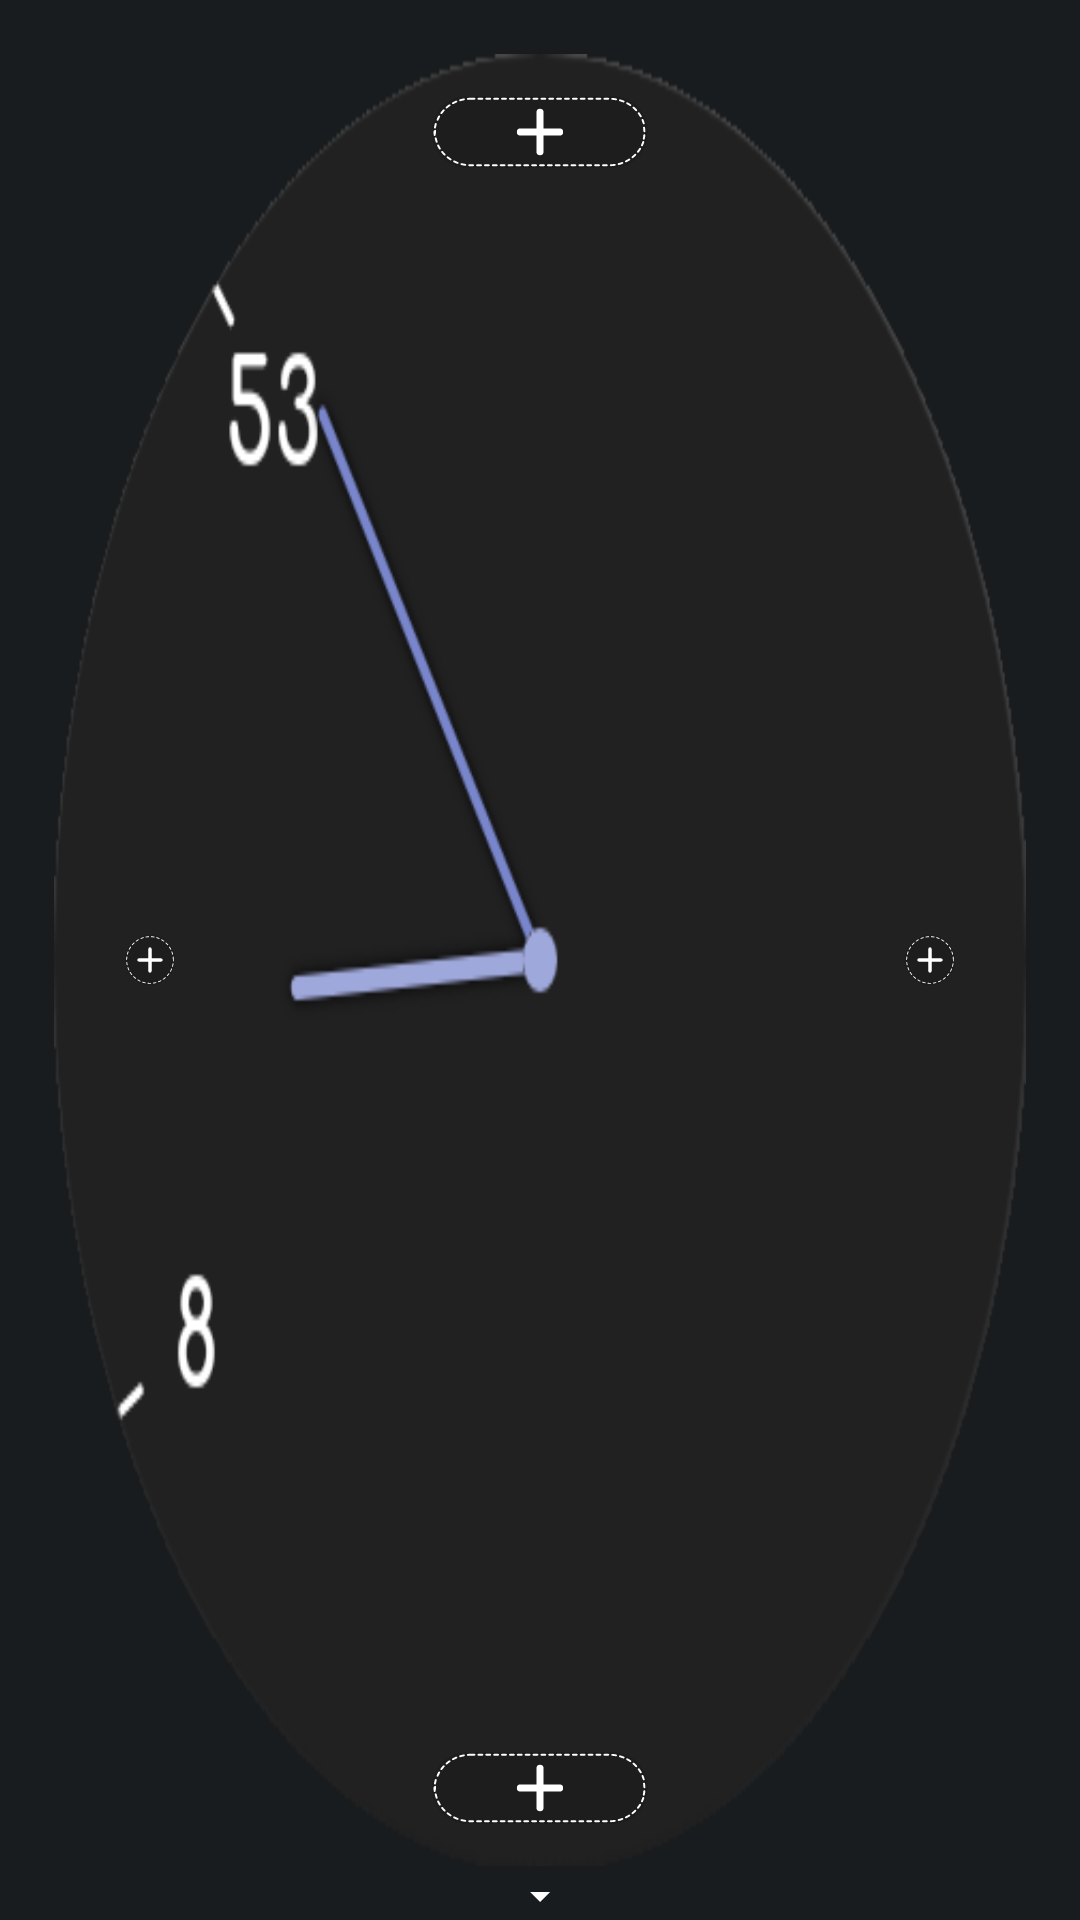

Screen size 1080 × 1920. Icon name, then its center in pixels as point (x, y):
add complication: point (539, 132), point (150, 960), point (930, 960), point (539, 1788)
